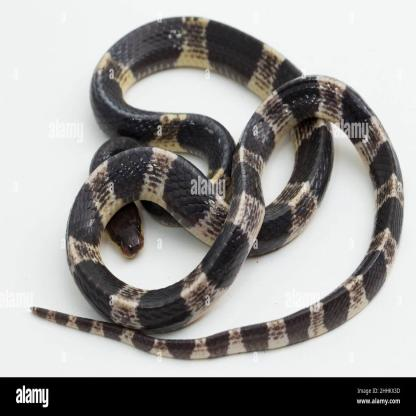Snake: (26, 10, 406, 358), (102, 190, 153, 256)
